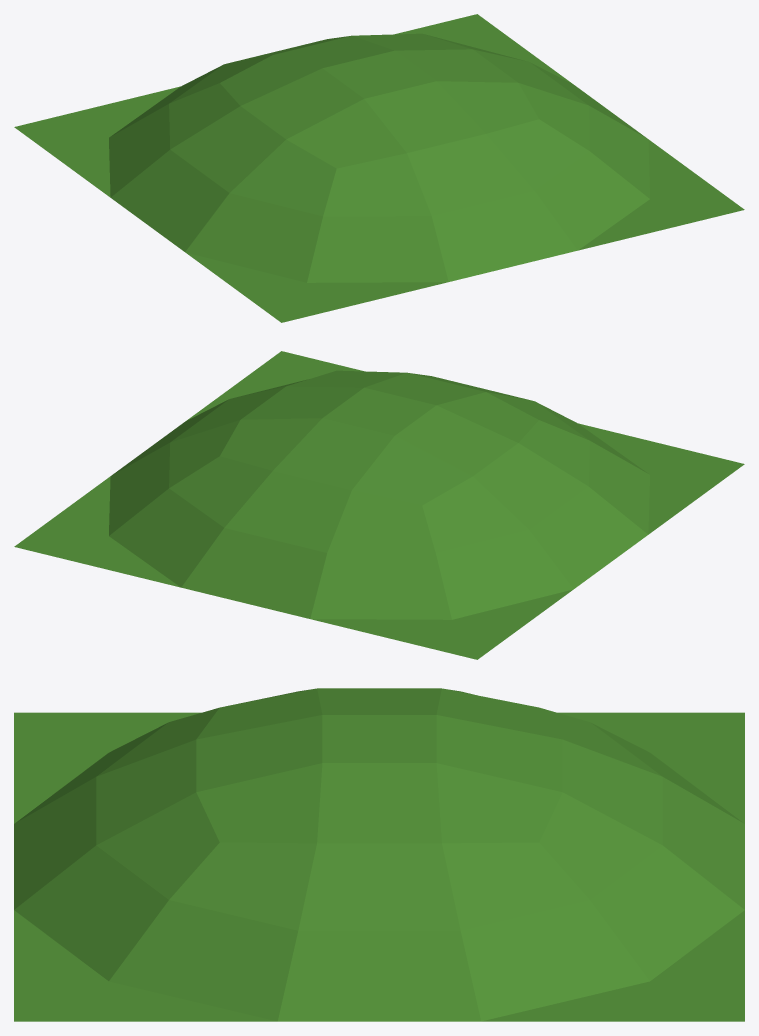
Rendered from tiles-nb_tile-plain-hump-nb.fbx.
3 views of the same model, one above another, from view 1: azimuth 30°, elevation 25°; view 2: azimuth 150°, elevation 25°; view 3: azimuth 270°, elevation 25° (orthographic). The views are drawn at different scales.
Parts seen in each view (by area): view 1: tiles_nb_tile_plain_hump_nb; view 2: tiles_nb_tile_plain_hump_nb; view 3: tiles_nb_tile_plain_hump_nb.
Boxes of the visible parts, box(x1,y1,x2,y2) form: tiles_nb_tile_plain_hump_nb: box(14, 14, 744, 322); tiles_nb_tile_plain_hump_nb: box(14, 351, 744, 659); tiles_nb_tile_plain_hump_nb: box(14, 688, 744, 1021).
Bounding box in the file's own units: 200 × 38.66 × 200.
